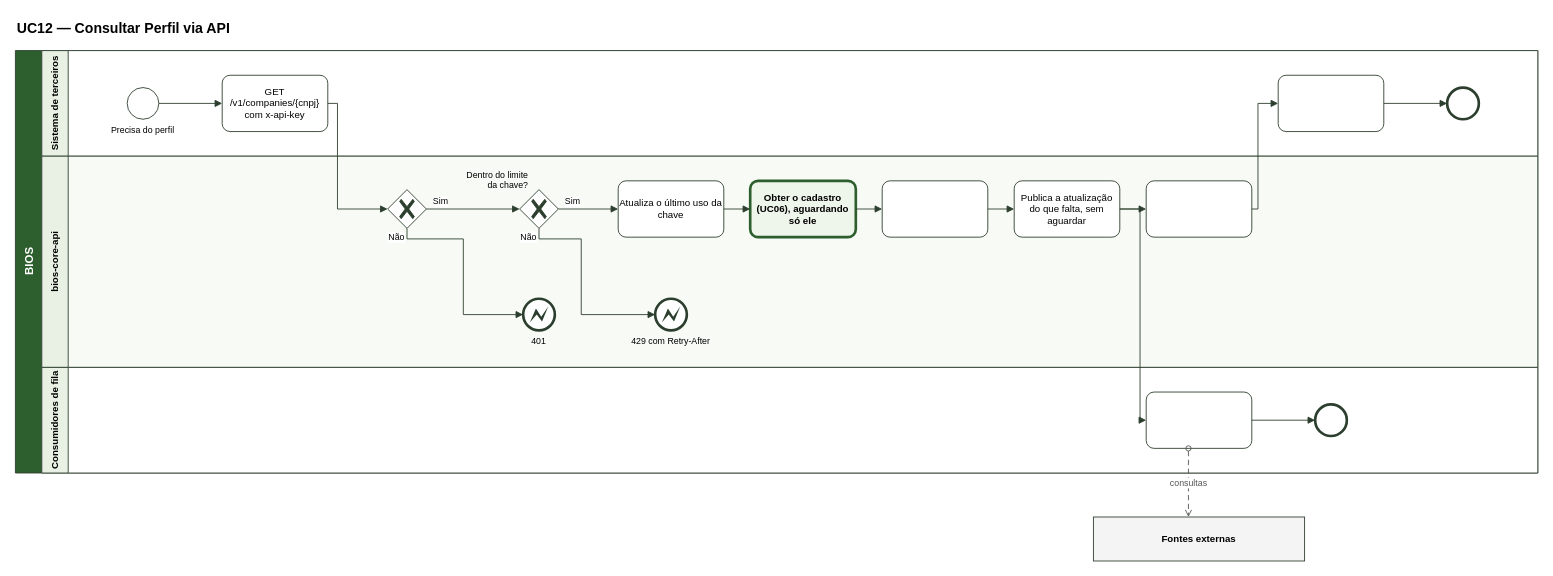
This 1553x576 diagram has some shape labels left out. The box of each missing label's shape, as (x1, y1, x2, y2) in pixels:
Chave válida?: (387, 189, 426, 228)
Coleta e recalcula em segundo plano (UC14, UC15): (1145, 391, 1252, 448)
Lê evidências e índices guardados e válidos: (881, 180, 988, 237)
Perfil recebido: (1446, 87, 1479, 119)
Recebe o perfil e repete depois, se preciso: (1277, 74, 1384, 132)
Responde o JSON com o pendente indicado: (1145, 180, 1252, 237)
Retrato atualizado: (1314, 403, 1347, 436)
